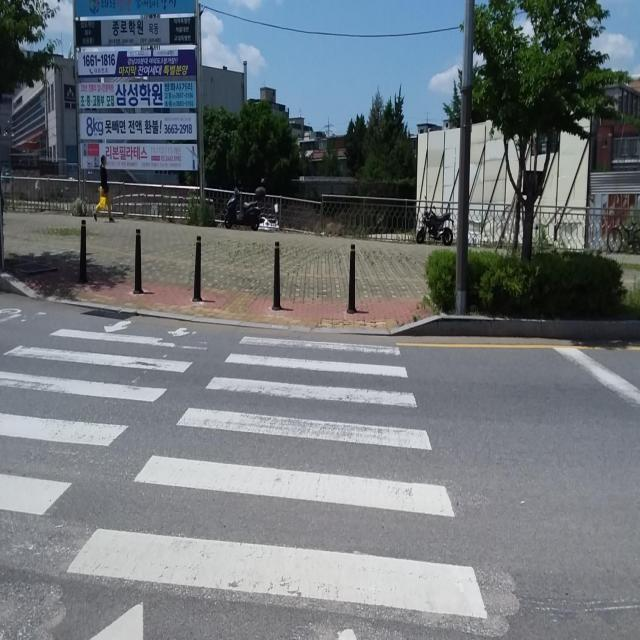횡단보도: (0, 318, 491, 640)
